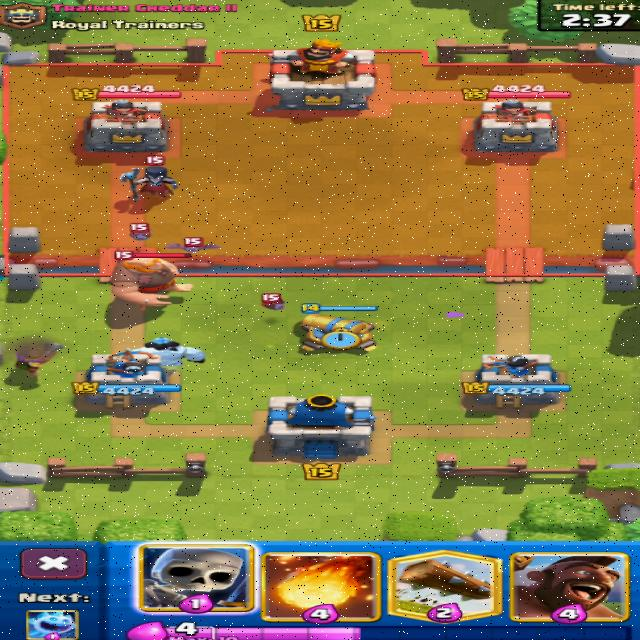Enemy-Bat: (167, 237, 219, 252), (262, 293, 282, 310), (130, 224, 150, 240)
Enemy-Giant: (111, 257, 191, 308)
Enemy-KingTower: (269, 39, 375, 110)
Enemy-NightWitch: (120, 165, 176, 200), (147, 157, 162, 163)
Enemy-PrincessTower: (474, 101, 557, 152), (86, 99, 167, 150)
Player-Cannon: (300, 314, 374, 350)
Player-IceGolem: (132, 338, 203, 366)
Player-KingTower: (267, 394, 374, 458)
Player-Musketeer: (16, 342, 62, 376)
Player-PrincessTower: (72, 350, 180, 407), (475, 355, 558, 404)
